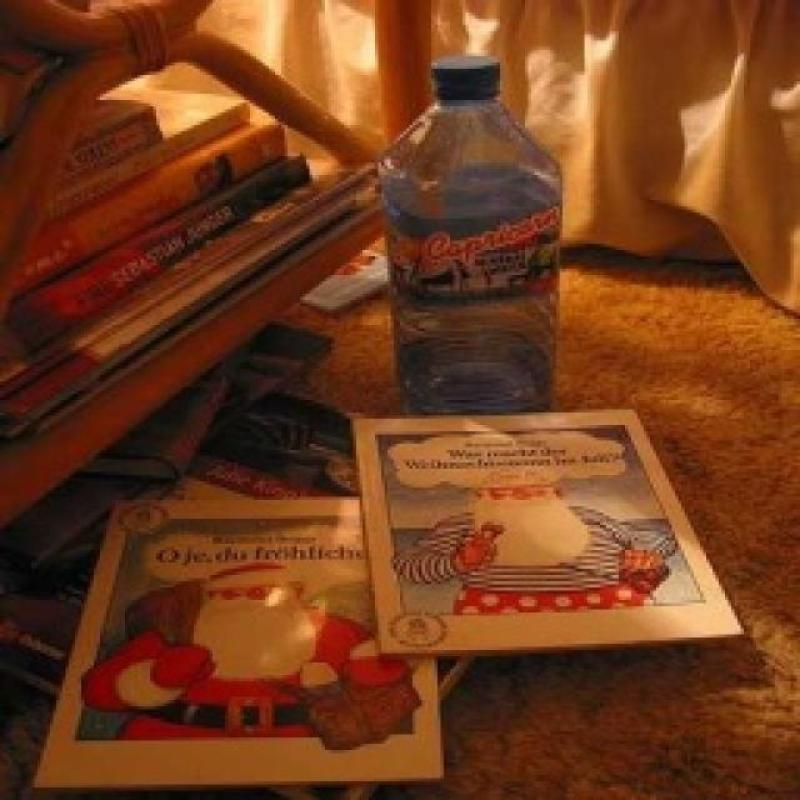botella: (381, 59, 562, 419)
